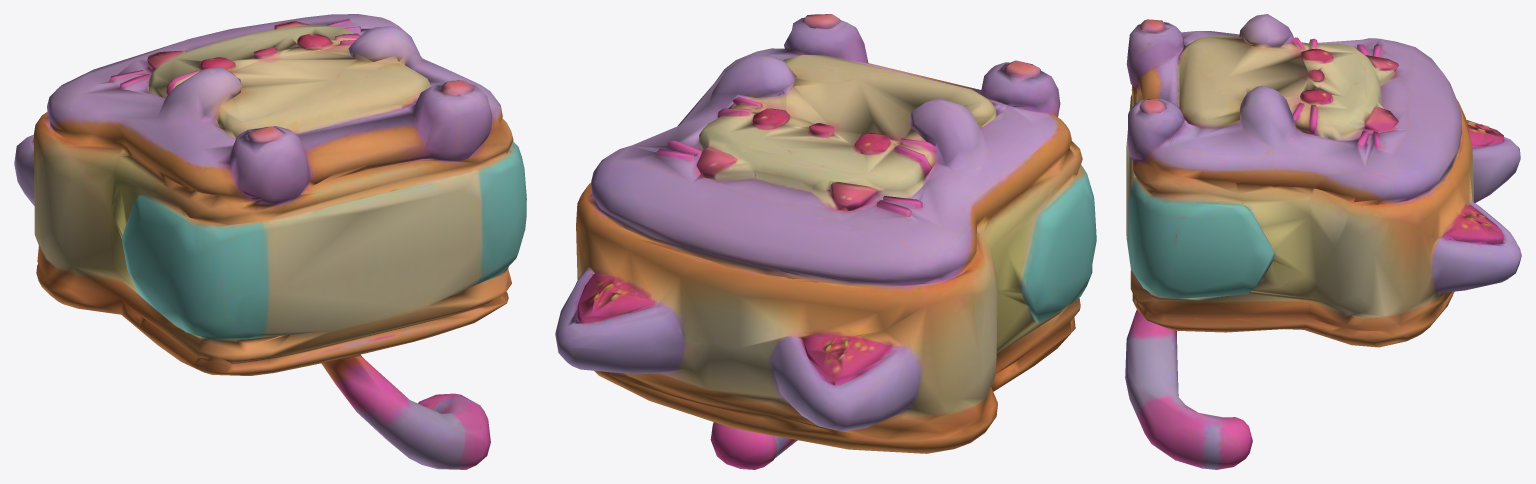
3 renders of one model, left to right at view 1: azimuth 30°, elevation 25°; view 2: azimuth 150°, elevation 25°; view 3: azimuth 270°, elevation 25°, orthographic. The views are drawn at different scales.
Visible parts, largest first — view 1: material; view 2: material; view 3: material.
Part boxes in pixels (left/top/right/bottom): material: left=14, top=14, right=526, bottom=469; material: left=555, top=14, right=1096, bottom=469; material: left=1125, top=14, right=1521, bottom=469.
Size of the model in its own units: 0.9529 by 0.9967 by 1.
Materials: 1 (1 with a texture image).
